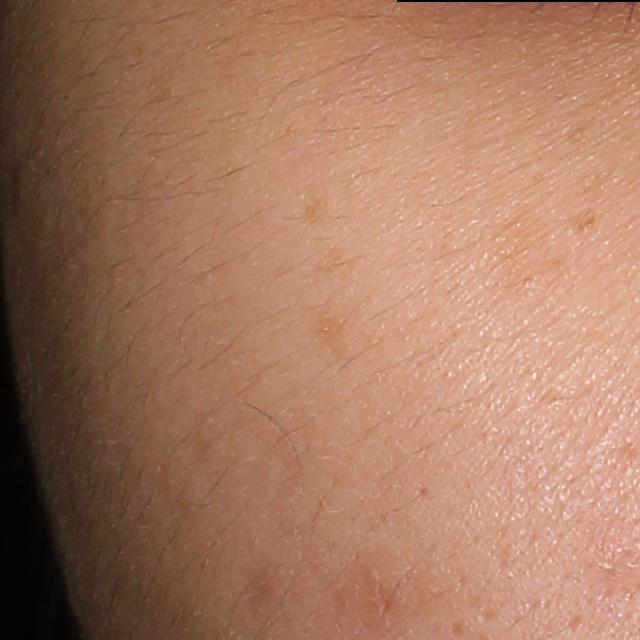melasma: (311, 306, 370, 366), (302, 193, 337, 235), (571, 205, 604, 236)
